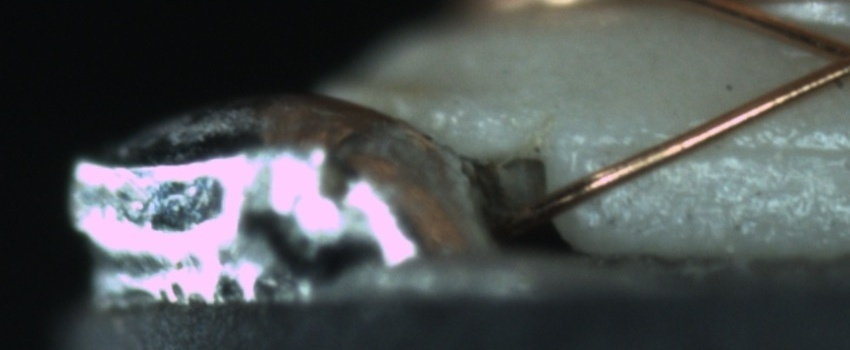CL: (800, 27, 850, 89)
DL: (601, 116, 849, 183)
